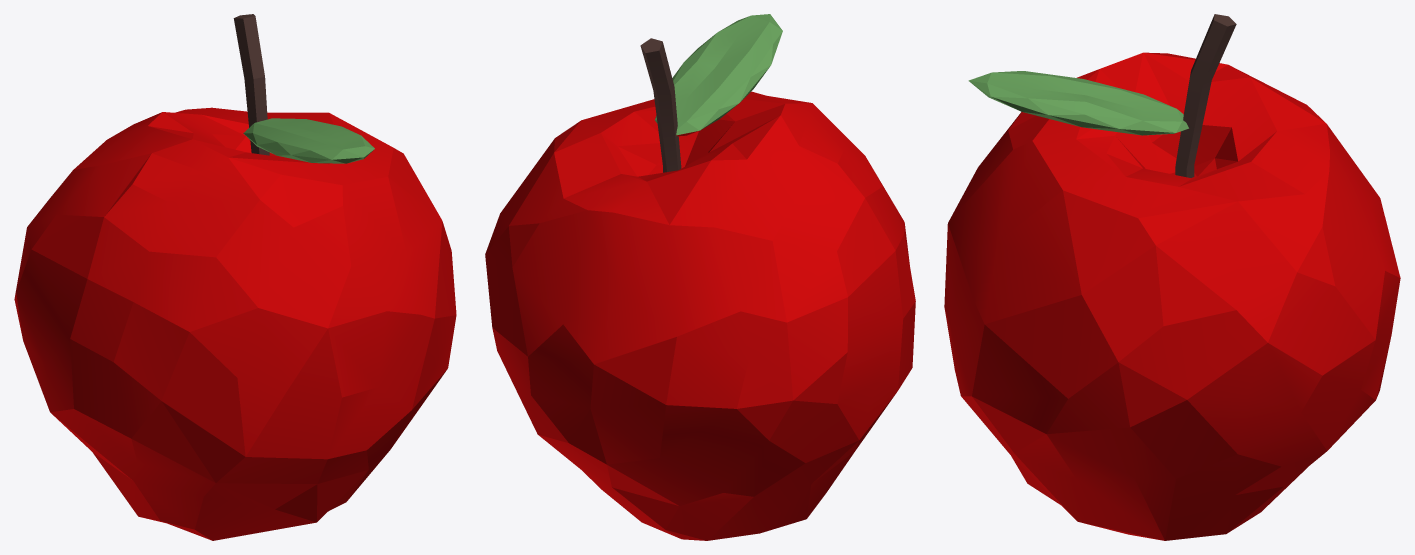
File: Apple.fbx
The picture shows the model from 3 angles, left to right: view 1: azimuth 30°, elevation 25°; view 2: azimuth 150°, elevation 25°; view 3: azimuth 270°, elevation 25°; orthographic projection. The views are drawn at different scales.
Visible parts, largest first — view 1: Cylinder.001; view 2: Cylinder.001; view 3: Cylinder.001.
Boxes of the visible parts, <box> form: Cylinder.001: <box>14,14,456,540</box>; Cylinder.001: <box>485,14,915,540</box>; Cylinder.001: <box>944,14,1400,540</box>.
Bounding box in the file's own units: 701 × 846 × 687.
